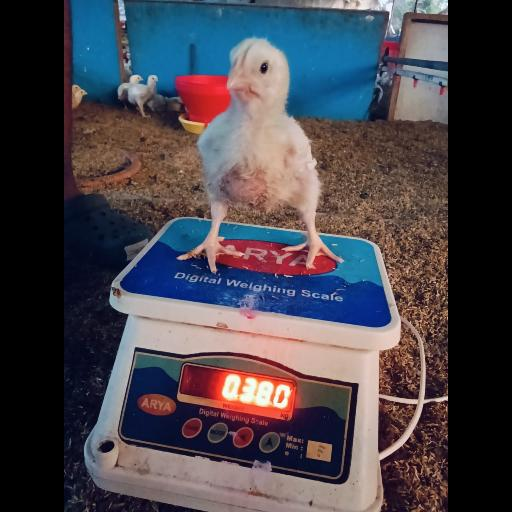chick: (178, 38, 342, 272)
